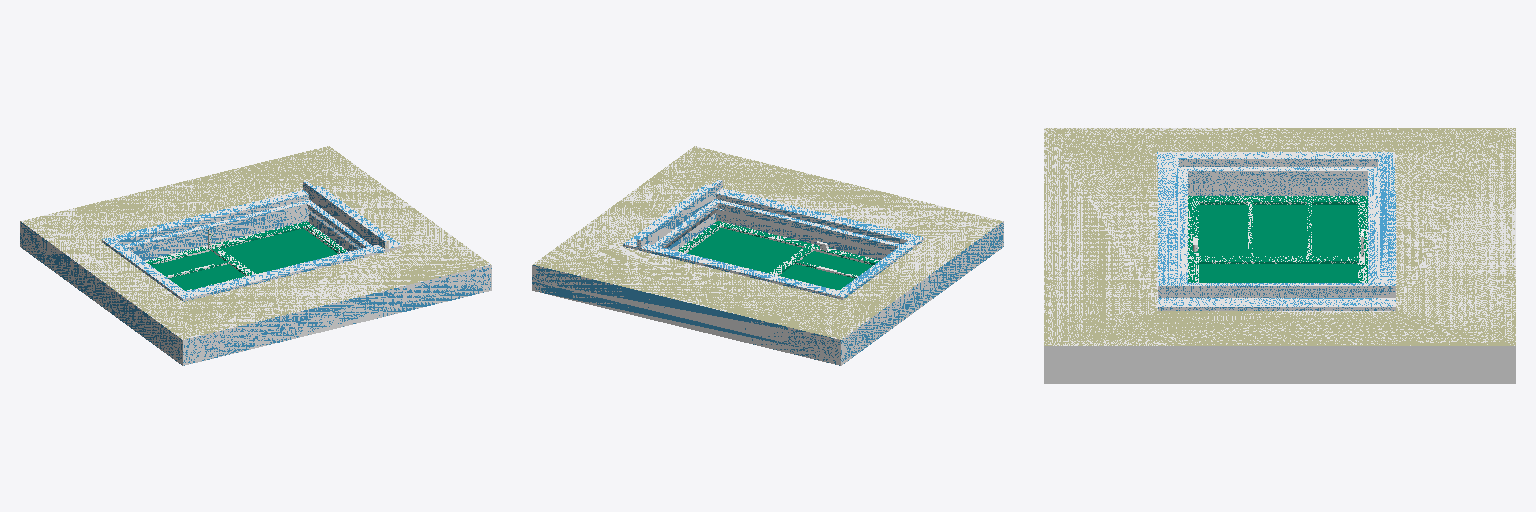
The robot description file, URDF, robot "window":
<?xml version="1.0" ?>
<robot name="window">
	<link name="base"/>
	<link name="link_0">
		<visual name="out-frame">
			<origin xyz="0 0 0"/>
			<geometry>
				<mesh filename="texture_dae/untitled.dae" scale="1 1 1"/>
			</geometry>
		</visual>
		<collision>
			<origin xyz="0 0 0"/>
			<geometry>
				<mesh filename="texture_dae/untitled.dae" scale="1 1 1"/>
			</geometry>
		</collision>
	</link>
	<joint name="joint_0" type="fixed">
		<origin rpy="1.570796326794897 0 -1.570796326794897" xyz="0 0 0"/>
		<child link="link_0"/>
		<parent link="base"/>
	</joint>
	<link name="link_1">
		<visual name="surf-board">
			<origin xyz="0.24070456903289078 -0.4331453655595154 0"/>
			<geometry>
				<mesh filename="texture_dae/untitled1.dae" scale="1 1 1"/>
			</geometry>
		</visual>
		<collision>
			<origin xyz="0.24070456903289078 -0.4331453655595154 0"/>
			<geometry>
				<mesh filename="texture_dae/untitled1.dae" scale="1 1 1"/>
			</geometry>
		</collision>
	</link>
	<joint name="joint_1" type="revolute">
		<origin xyz="-0.24070456903289078 0.4331453655595154 0"/>
		<axis xyz="0 -1 0"/>
		<child link="link_1"/>
		<parent link="link_0"/>
		<limit lower="0" upper="1.5079644737231006"/>
	</joint>
	<link name="link_2">
		<visual name="handle">
			<origin xyz="0 0 0"/>
			<geometry>
				<mesh filename="texture_dae/9969506.dae" scale="0.9185549486480653 0.9185549486480653 0.9185549486480653"/>
			</geometry>
		</visual>
		<collision>
			<origin xyz="0 0 0"/>
			<geometry>
				<mesh filename="texture_dae/9969506.dae" scale="0.9185549486480653 0.9185549486480653 0.9185549486480653"/>
			</geometry>
		</collision>
	</link>
	<joint name="joint_2" type="revolute">
		<origin xyz="0.5274100141091238 -0.4331453655595154 0.05358322777999004"/>
		<child link="link_2"/>
		<parent link="link_1"/>
		<axis xyz="0 0 1"/>
		<limit lower="0" upper="1.5079644737231006"/>
	</joint>
</robot>

--- Facts derived from the render (not from the file) ---
The picture shows the robot from 3 angles, left to right: view 1: azimuth 30°, elevation 25°; view 2: azimuth 150°, elevation 25°; view 3: azimuth 270°, elevation 25°; orthographic projection.
Robot: window — 4 links, 3 joints (2 revolute, 1 fixed); root link base; default pose: all joints at 0.
Visible links, largest first — view 1: link_0, link_1; view 2: link_0, link_1; view 3: link_0, link_1.
Boxes of the visible links, x1,y1,x2,y2 form: link_0: (20,146,491,365); link_1: (145,221,347,290); link_0: (532,146,1003,365); link_1: (677,221,879,289); link_0: (1044,128,1515,383); link_1: (1188,196,1367,282).
Bounding box of the posed robot: 1.5 × 1.37 × 0.1786 m (x, y, z).
Meshes: 3 distinct files referenced, 3 mesh visuals loaded (3 Collada DAE).
